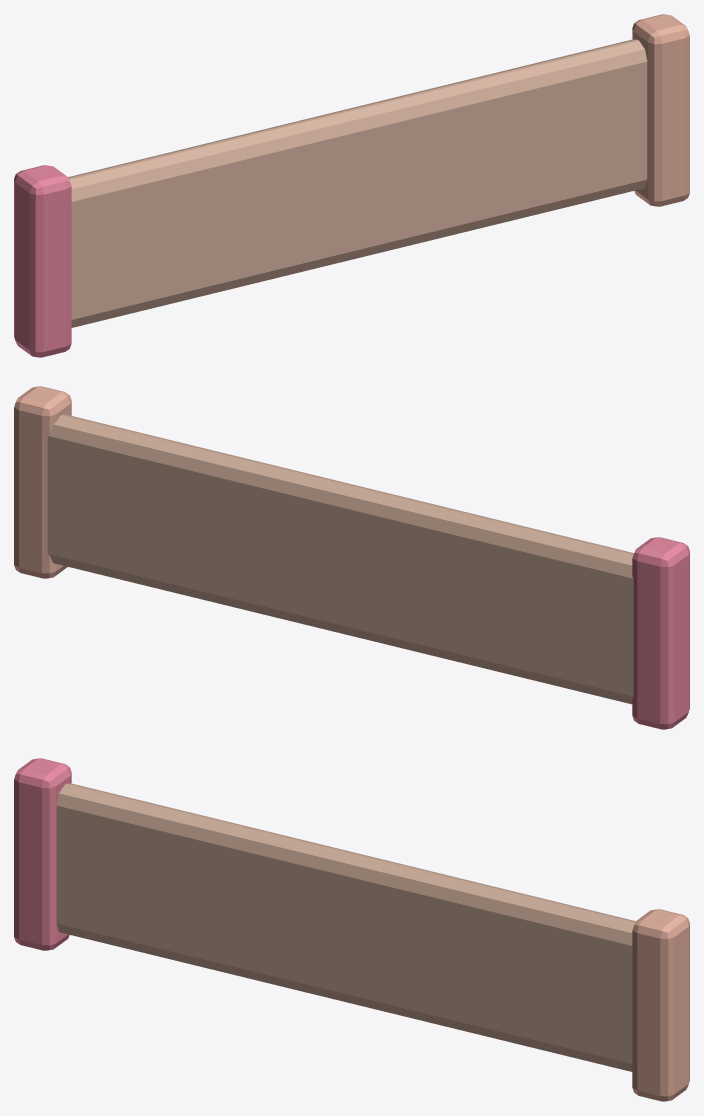
Rendered from WC_RIVER_Sign_Blank_A.glb.
3 views of the same model, one above another, from view 1: azimuth 30°, elevation 25°; view 2: azimuth 150°, elevation 25°; view 3: azimuth 330°, elevation 25° (orthographic).
Visible parts, largest first — view 1: WC_RIVER_Sign_Blank_A_RenderMesh; view 2: WC_RIVER_Sign_Blank_A_RenderMesh; view 3: WC_RIVER_Sign_Blank_A_RenderMesh.
Boxes of the visible parts, bbox=[...] form: WC_RIVER_Sign_Blank_A_RenderMesh: bbox=[14, 14, 689, 357]; WC_RIVER_Sign_Blank_A_RenderMesh: bbox=[14, 386, 689, 729]; WC_RIVER_Sign_Blank_A_RenderMesh: bbox=[14, 758, 689, 1101].
Bounding box in the file's own units: 1.69 × 0.43 × 0.11.
